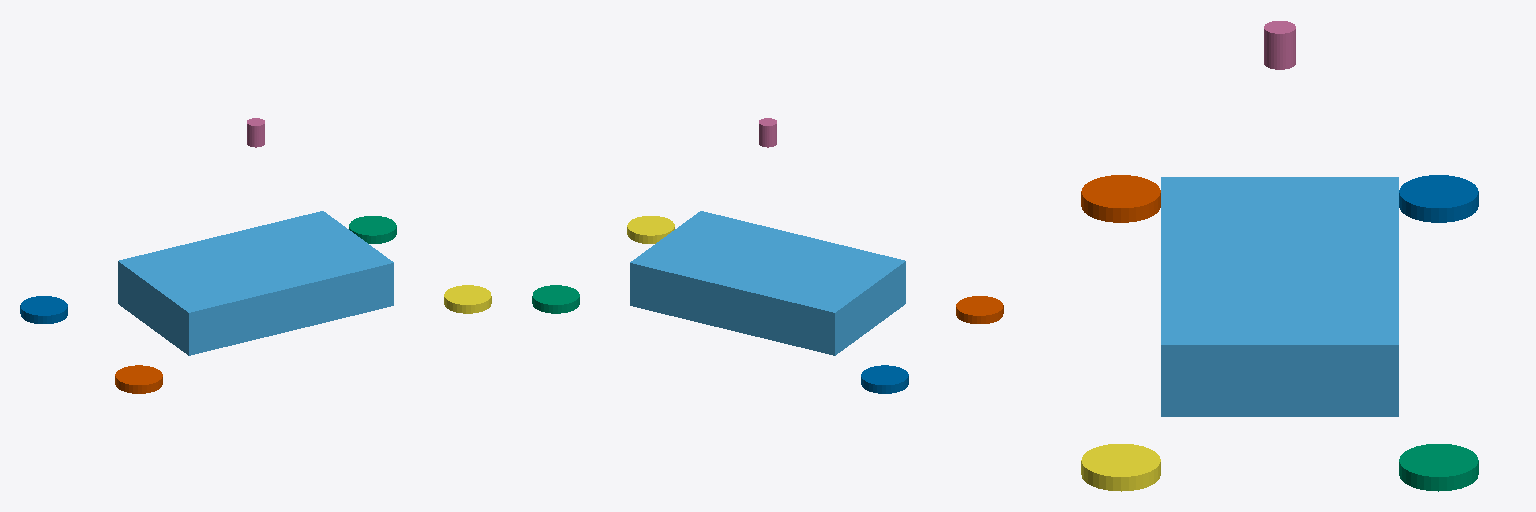
The robot description file, URDF, robot "arac_Montaj1_urdf":
<robot name="arac_Montaj1_urdf">
  <!-- Root Link -->
  <link name="base_footprint"/>

  <!-- Joint connecting base_footprint to base_link -->
  <joint name="base_footprint_to_base_link" type="fixed">
    <parent link="base_footprint"/>
    <child link="base_link"/>
  </joint>

  <!-- Define base_link -->
  <link name="base_link">
    <visual>
      <geometry>
        <box size="0.5 0.3 0.1"/>
      </geometry>
      <origin xyz="0 0 0.05" rpy="0 0 0"/>
    </visual>
  </link>

  <!-- Front left wheel (sol_on) -->
  <link name="sol_on">
    <visual>
      <geometry>
        <cylinder radius="0.05" length="0.02"/>
      </geometry>
      <origin xyz="0.2 0.1 0" rpy="0 0 0"/>
    </visual>
  </link>

  <!-- Joint connecting base_link to sol_on -->
  <joint name="base_to_sol_on" type="continuous">
    <parent link="base_link"/>
    <child link="sol_on"/>
    <origin xyz="0.2 0.1 0" rpy="0 0 0"/>
    <axis xyz="0 1 0"/>
  </joint>

  <!-- Front right wheel -->
  <link name="sag_on">
    <visual>
      <geometry>
        <cylinder radius="0.05" length="0.02"/>
      </geometry>
      <origin xyz="0.2 -0.1 0" rpy="0 0 0"/>
    </visual>
  </link>

  <joint name="base_to_sag_on" type="continuous">
    <parent link="base_link"/>
    <child link="sag_on"/>
    <origin xyz="0.2 -0.1 0" rpy="0 0 0"/>
    <axis xyz="0 1 0"/>
  </joint>

  <!-- Rear left wheel -->
  <link name="sol_arka">
    <visual>
      <geometry>
        <cylinder radius="0.05" length="0.02"/>
      </geometry>
      <origin xyz="-0.2 0.1 0" rpy="0 0 0"/>
    </visual>
  </link>

  <joint name="base_to_sol_arka" type="continuous">
    <parent link="base_link"/>
    <child link="sol_arka"/>
    <origin xyz="-0.2 0.1 0" rpy="0 0 0"/>
    <axis xyz="0 1 0"/>
  </joint>

  <!-- Rear right wheel -->
  <link name="sag_arka">
    <visual>
      <geometry>
        <cylinder radius="0.05" length="0.02"/>
      </geometry>
      <origin xyz="-0.2 -0.1 0" rpy="0 0 0"/>
    </visual>
  </link>

  <joint name="base_to_sag_arka" type="continuous">
    <parent link="base_link"/>
    <child link="sag_arka"/>
    <origin xyz="-0.2 -0.1 0" rpy="0 0 0"/>
    <axis xyz="0 1 0"/>
  </joint>

  <!-- Laser Frame -->
  <link name="laser_frame">
    <visual>
      <geometry>
        <cylinder radius="0.02" length="0.05"/>
      </geometry>
      <origin xyz="0 0 0.2" rpy="0 0 0"/>
    </visual>
  </link>

  <!-- Joint connecting base_link to laser_frame -->
  <joint name="base_to_laser" type="fixed">
    <parent link="base_link"/>
    <child link="laser_frame"/>
    <origin xyz="0 0 0.2" rpy="0 0 0"/>
  </joint>
</robot>

--- What the picture shows (computed from the rendered views, not written in the file) ---
The picture shows the robot from 3 angles, left to right: view 1: azimuth 30°, elevation 25°; view 2: azimuth 150°, elevation 25°; view 3: azimuth 270°, elevation 25°; orthographic projection.
Model arac_Montaj1_urdf with 7 links and 6 joints (4 continuous, 2 fixed), rooted at base_footprint, posed every joint at zero.
Links seen in each view (by area): view 1: base_link, sag_arka, sag_on, sol_arka, sol_on; view 2: base_link, sol_arka, sol_on, sag_arka, sag_on; view 3: base_link, sol_arka, sag_arka, sol_on, sag_on, laser_frame.
Boxes of the visible links, x1=… form: base_link: x1=118, y1=211, x2=393, y2=355; sag_arka: x1=115, y1=365, x2=162, y2=393; sag_on: x1=444, y1=285, x2=491, y2=313; sol_arka: x1=20, y1=296, x2=67, y2=323; sol_on: x1=349, y1=216, x2=396, y2=243; base_link: x1=630, y1=211, x2=905, y2=355; sol_arka: x1=861, y1=365, x2=908, y2=393; sol_on: x1=532, y1=285, x2=579, y2=313; sag_arka: x1=956, y1=296, x2=1003, y2=323; sag_on: x1=627, y1=216, x2=674, y2=243; base_link: x1=1161, y1=177, x2=1398, y2=416; sol_arka: x1=1399, y1=175, x2=1478, y2=222; sag_arka: x1=1081, y1=175, x2=1160, y2=222; sol_on: x1=1399, y1=444, x2=1478, y2=491; sag_on: x1=1081, y1=444, x2=1160, y2=491; laser_frame: x1=1264, y1=21, x2=1295, y2=69.
Size in the robot's own frame: 0.9 by 0.5 by 0.435 metres.
Geometry: primitives only (box / cylinder / sphere), no mesh files.
